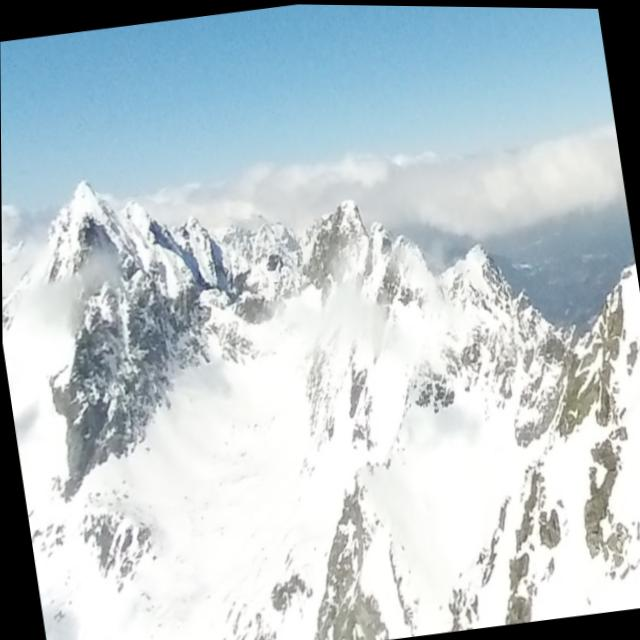Ganek: (261, 122, 432, 278)
Rysy: (89, 154, 179, 249)
Vysoka: (28, 127, 135, 241)
